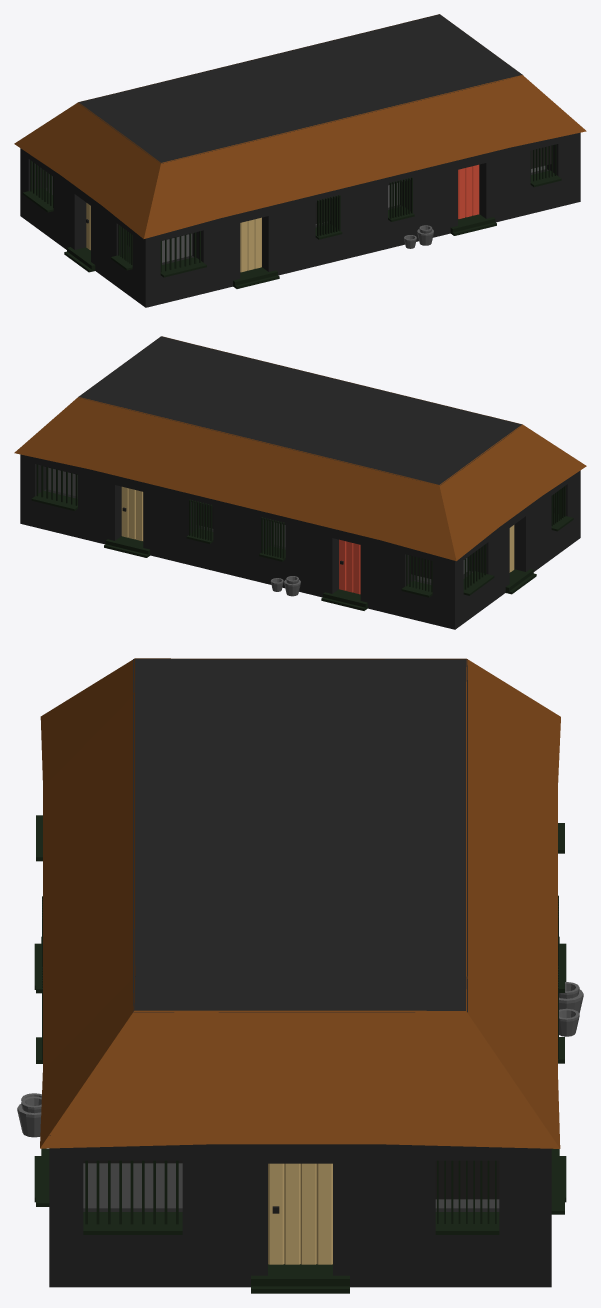
The model's file is CasaProcedural_20.fbx.
3 views of the same model, one above another, from view 1: azimuth 30°, elevation 25°; view 2: azimuth 150°, elevation 25°; view 3: azimuth 270°, elevation 25° (orthographic). The views are drawn at different scales.
Parts seen in each view (by area): view 1: Procedural_Building; view 2: Procedural_Building; view 3: Procedural_Building.
Boxes of the visible parts, x1,y1,x2,y2 form: Procedural_Building: (14,14,586,307); Procedural_Building: (14,336,586,629); Procedural_Building: (17,658,583,1293).
Bounding box in the file's own units: 618 × 159 × 338.
